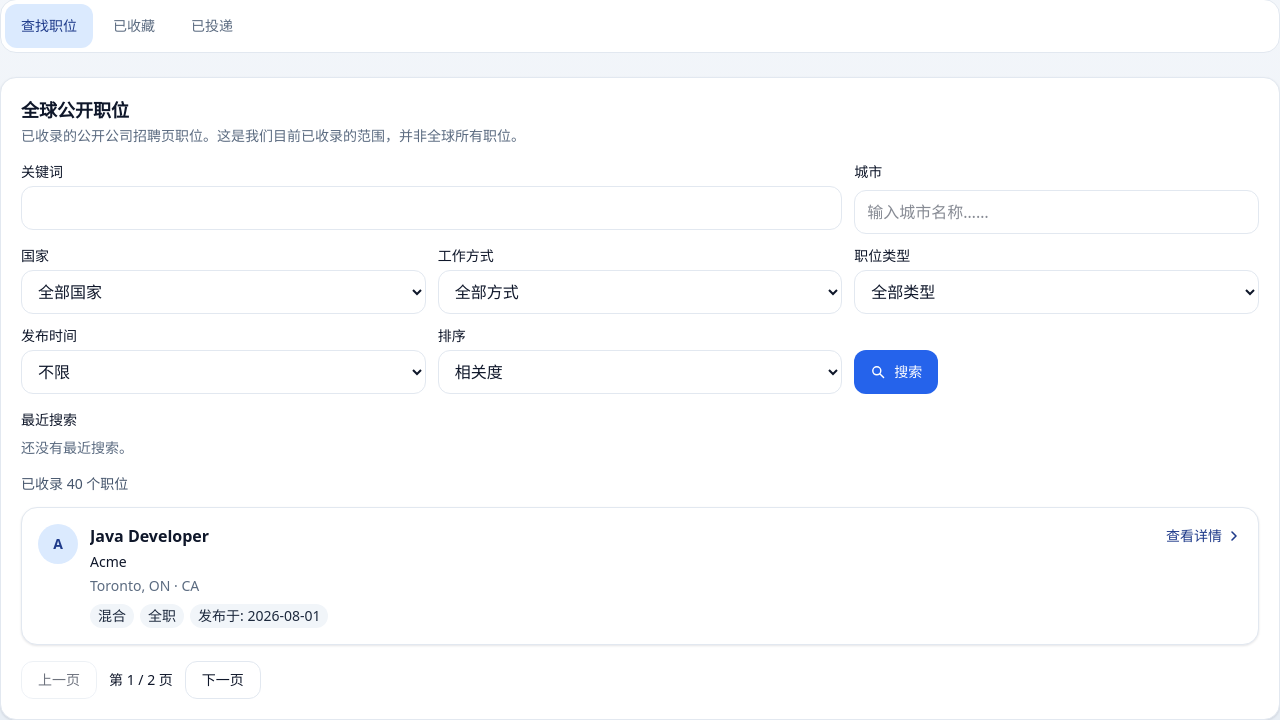
it: JobsPage catalog search › never scrolls when a page-forward request fails
(page scrolled)
Click the button "下一页" at (223,680), box x1=185 y1=661 x2=261 y2=699
(page scrolled)
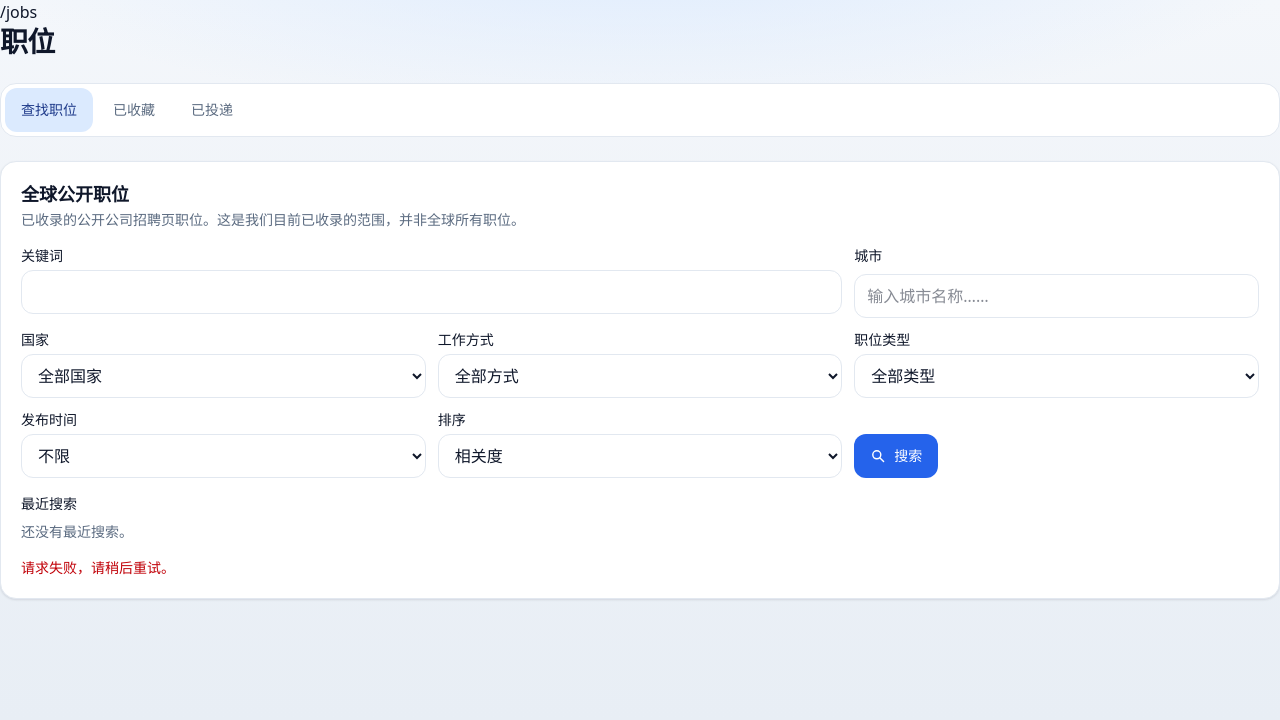
Check: the message "请求失败，请稍后重试。" is shown, box x1=21 y1=558 x2=175 y2=577
